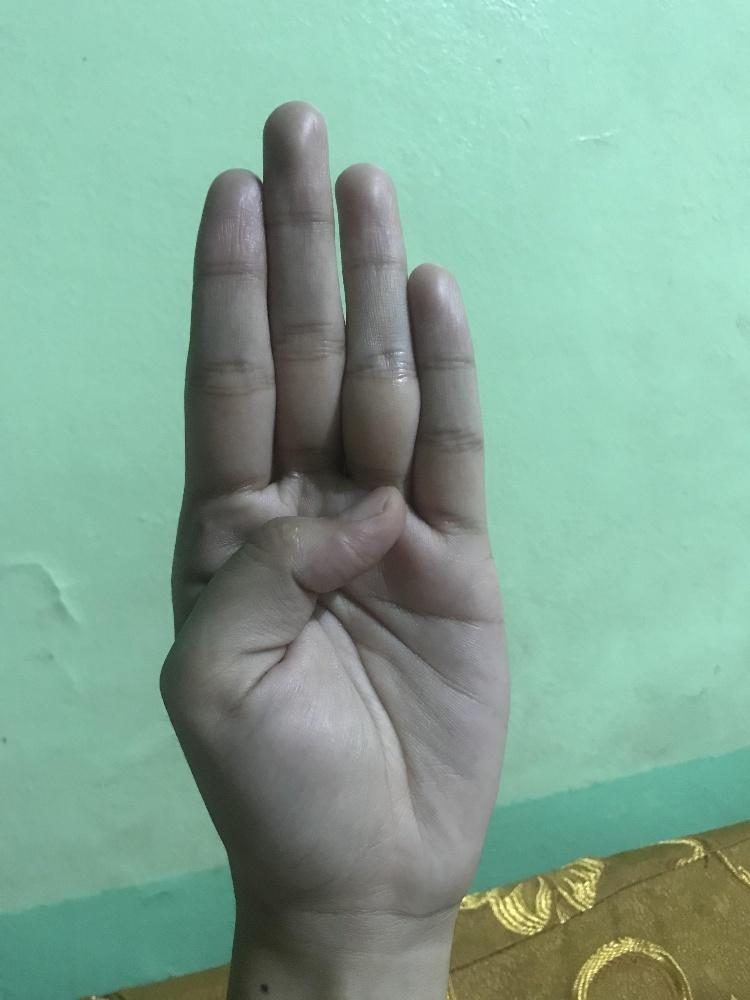b: (155, 89, 513, 923)
